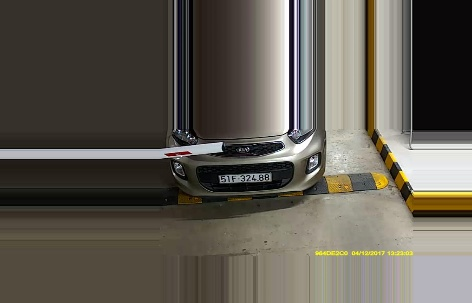plate: (215, 170, 271, 182)
